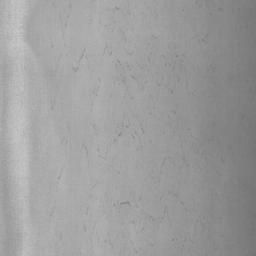Silk spot: (113, 200, 131, 213)
